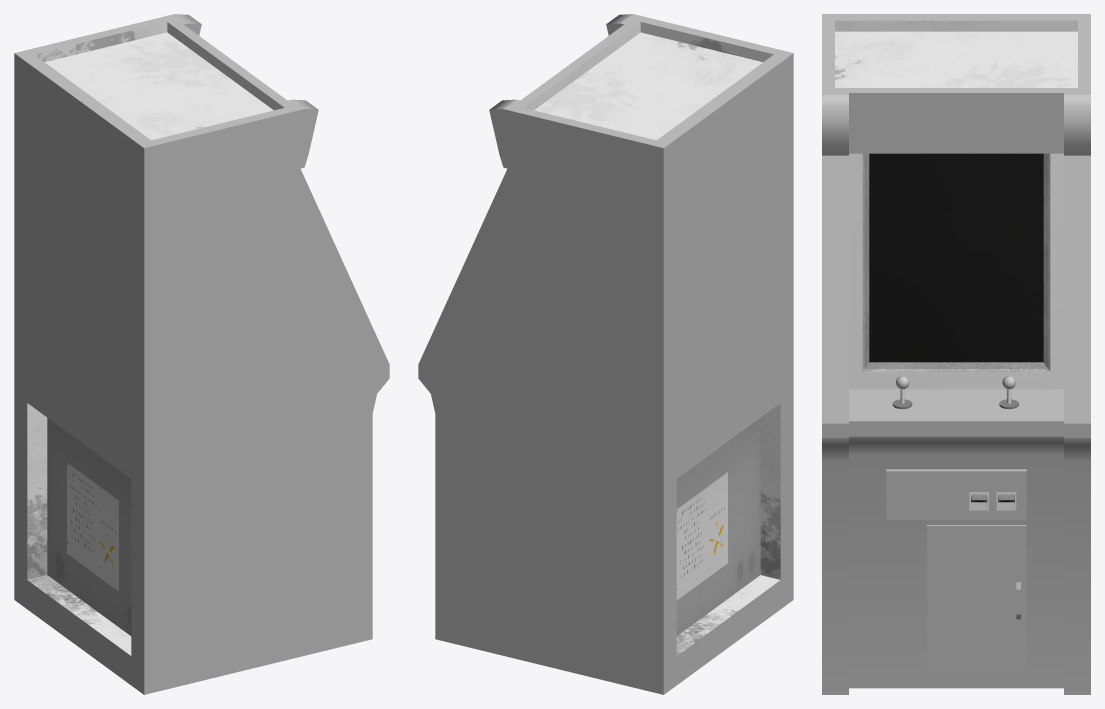
File: Arcade Sunset.fbx
3 views of the same model, side by side, from view 1: azimuth 30°, elevation 25°; view 2: azimuth 150°, elevation 25°; view 3: azimuth 270°, elevation 25° (orthographic). The views are drawn at different scales.
Parts seen in each view (by area): view 1: Cube.034; view 2: Cube.034; view 3: Cube.034.
Boxes of the visible parts, box(x1,y1,x2,y2) form: Cube.034: box(14, 14, 389, 694); Cube.034: box(418, 14, 793, 694); Cube.034: box(822, 14, 1090, 694).
Bounding box in the file's own units: 70.77 × 151 × 64.84.
